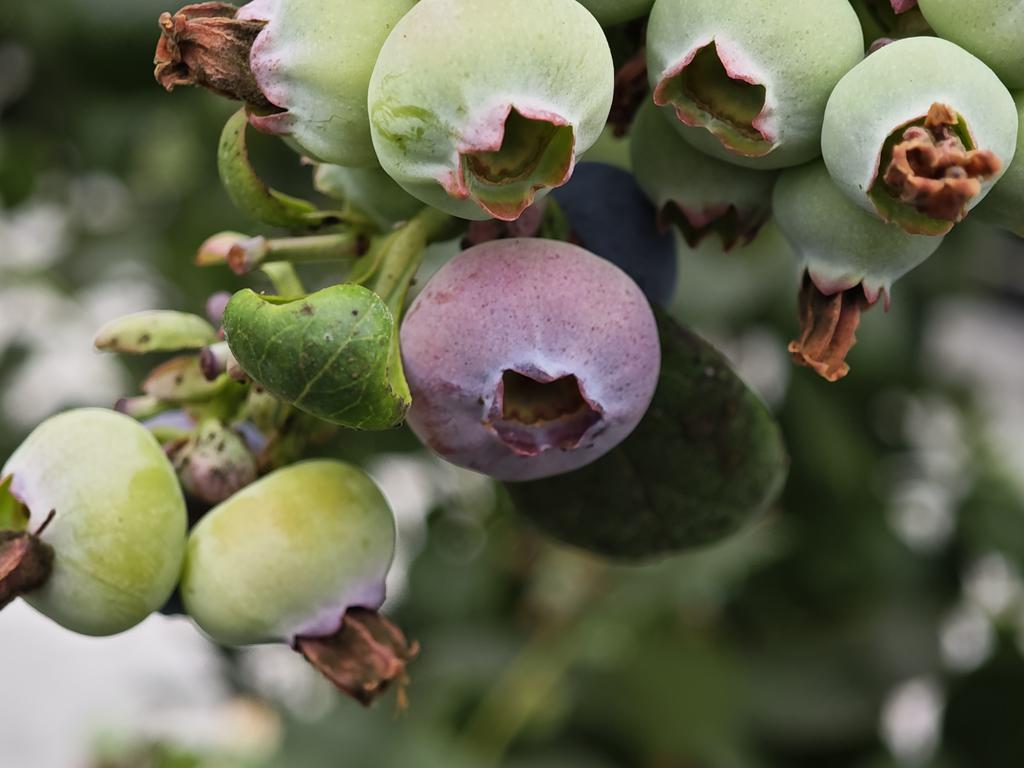Semi-RipeBlueBerry: (395, 234, 667, 487)
